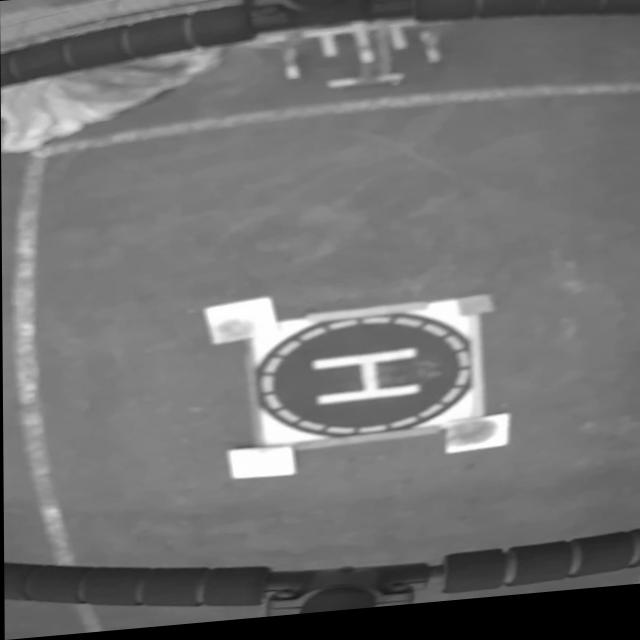Helipad: (312, 354, 423, 411)
